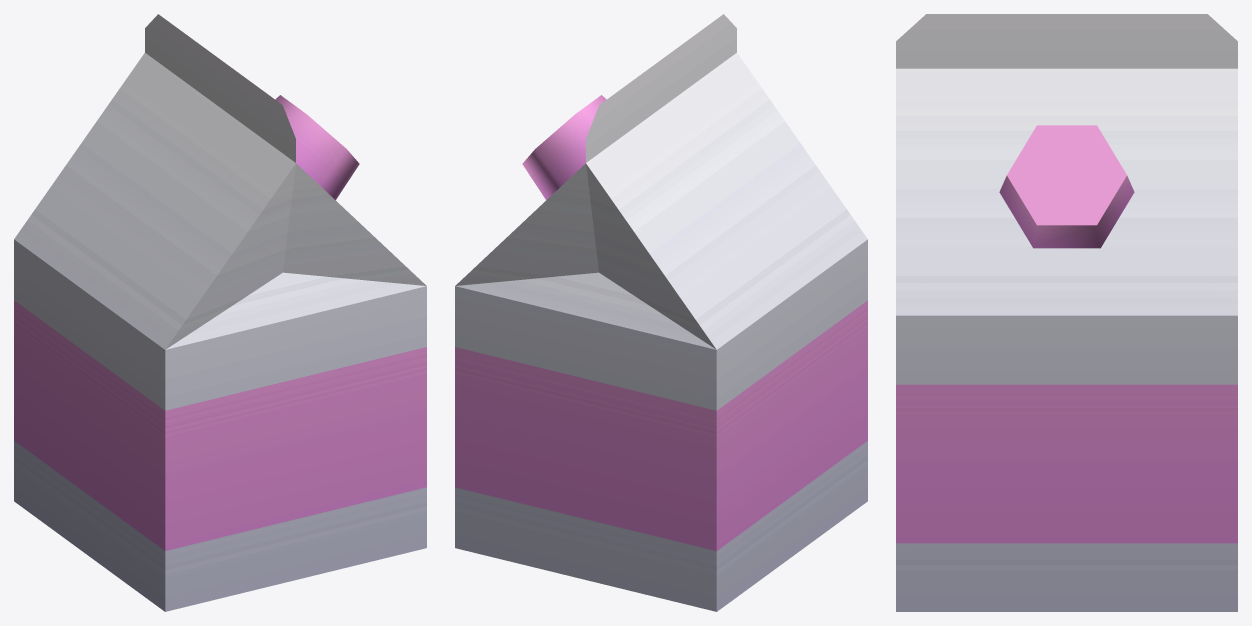
File: carton-small.glb
3 renders of one model, left to right at view 1: azimuth 30°, elevation 25°; view 2: azimuth 150°, elevation 25°; view 3: azimuth 270°, elevation 25°, orthographic. The views are drawn at different scales.
Visible parts, largest first — view 1: carton-small; view 2: carton-small; view 3: carton-small.
Boxes of the visible parts, left/top/right/bottom form: carton-small: left=14, top=14, right=426, bottom=611; carton-small: left=455, top=14, right=867, bottom=611; carton-small: left=896, top=14, right=1237, bottom=611.
Bounding box in the file's own units: 0.23 × 0.3905 × 0.23.
1 material, 1 textured.
